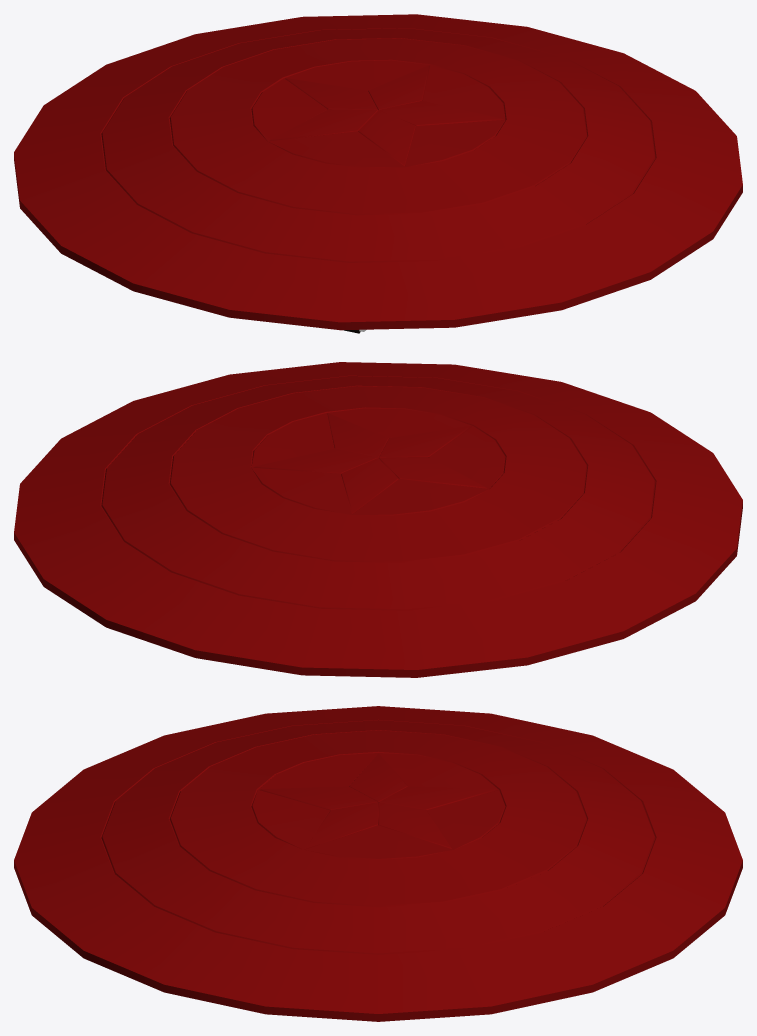
Rendered from CaptainsSheildExport.obj.
3 renders of one model, top to bottom at view 1: azimuth 30°, elevation 25°; view 2: azimuth 150°, elevation 25°; view 3: azimuth 270°, elevation 25°, orthographic.
Visible parts, largest first — view 1: pCylinder1; view 2: pCylinder1; view 3: pCylinder1.
Part boxes in pixels (left/top/right/bottom): pCylinder1: left=14, top=14, right=742, bottom=330; pCylinder1: left=14, top=362, right=742, bottom=677; pCylinder1: left=14, top=706, right=742, bottom=1021.
Size of the model in its own units: 2 by 0.2791 by 2.
